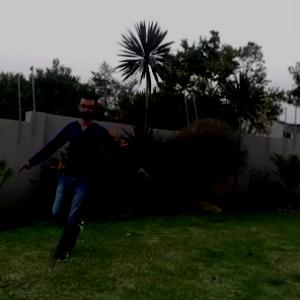land: (28, 95, 154, 249)
